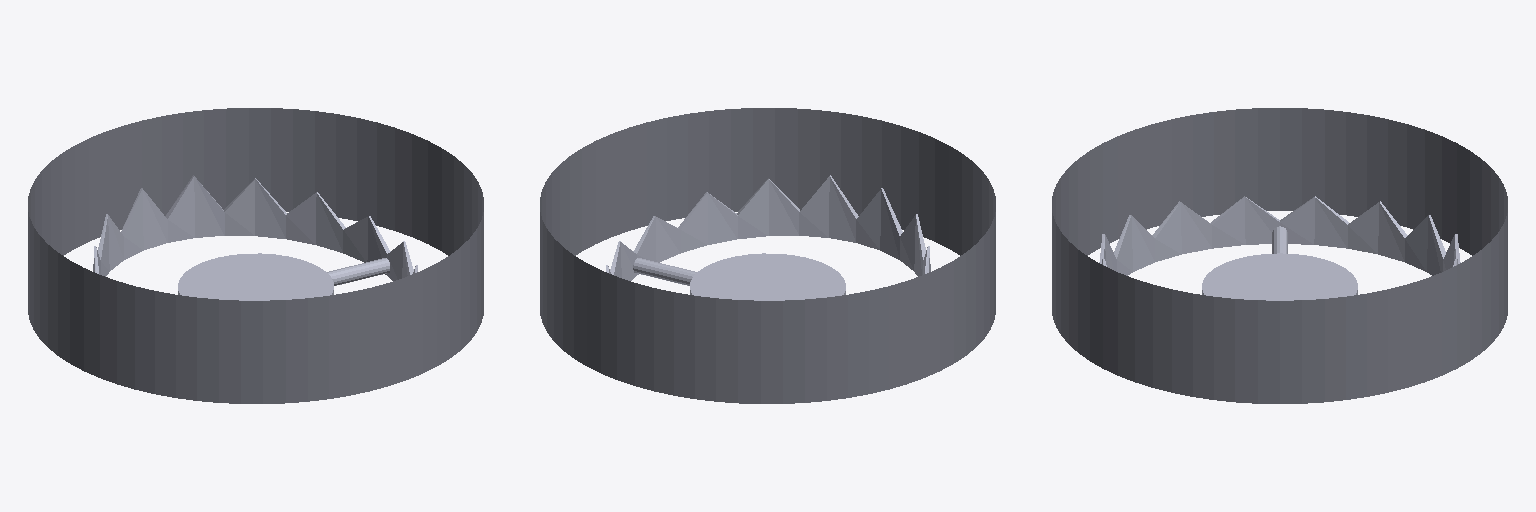
3 views of the same model, side by side, from view 1: azimuth 30°, elevation 25°; view 2: azimuth 150°, elevation 25°; view 3: azimuth 270°, elevation 25° (orthographic).
Parts seen in each view (by area): view 1: foottrap_r05; view 2: foottrap_r05; view 3: foottrap_r05.
Part boxes in pixels (x1,y1,x2,y2): foottrap_r05: (28,108,483,403); foottrap_r05: (540,108,995,403); foottrap_r05: (1052,108,1507,403).
Bounding box in the file's own units: 1 × 0.25 × 1.
Materials: 2 (1 with a texture image).